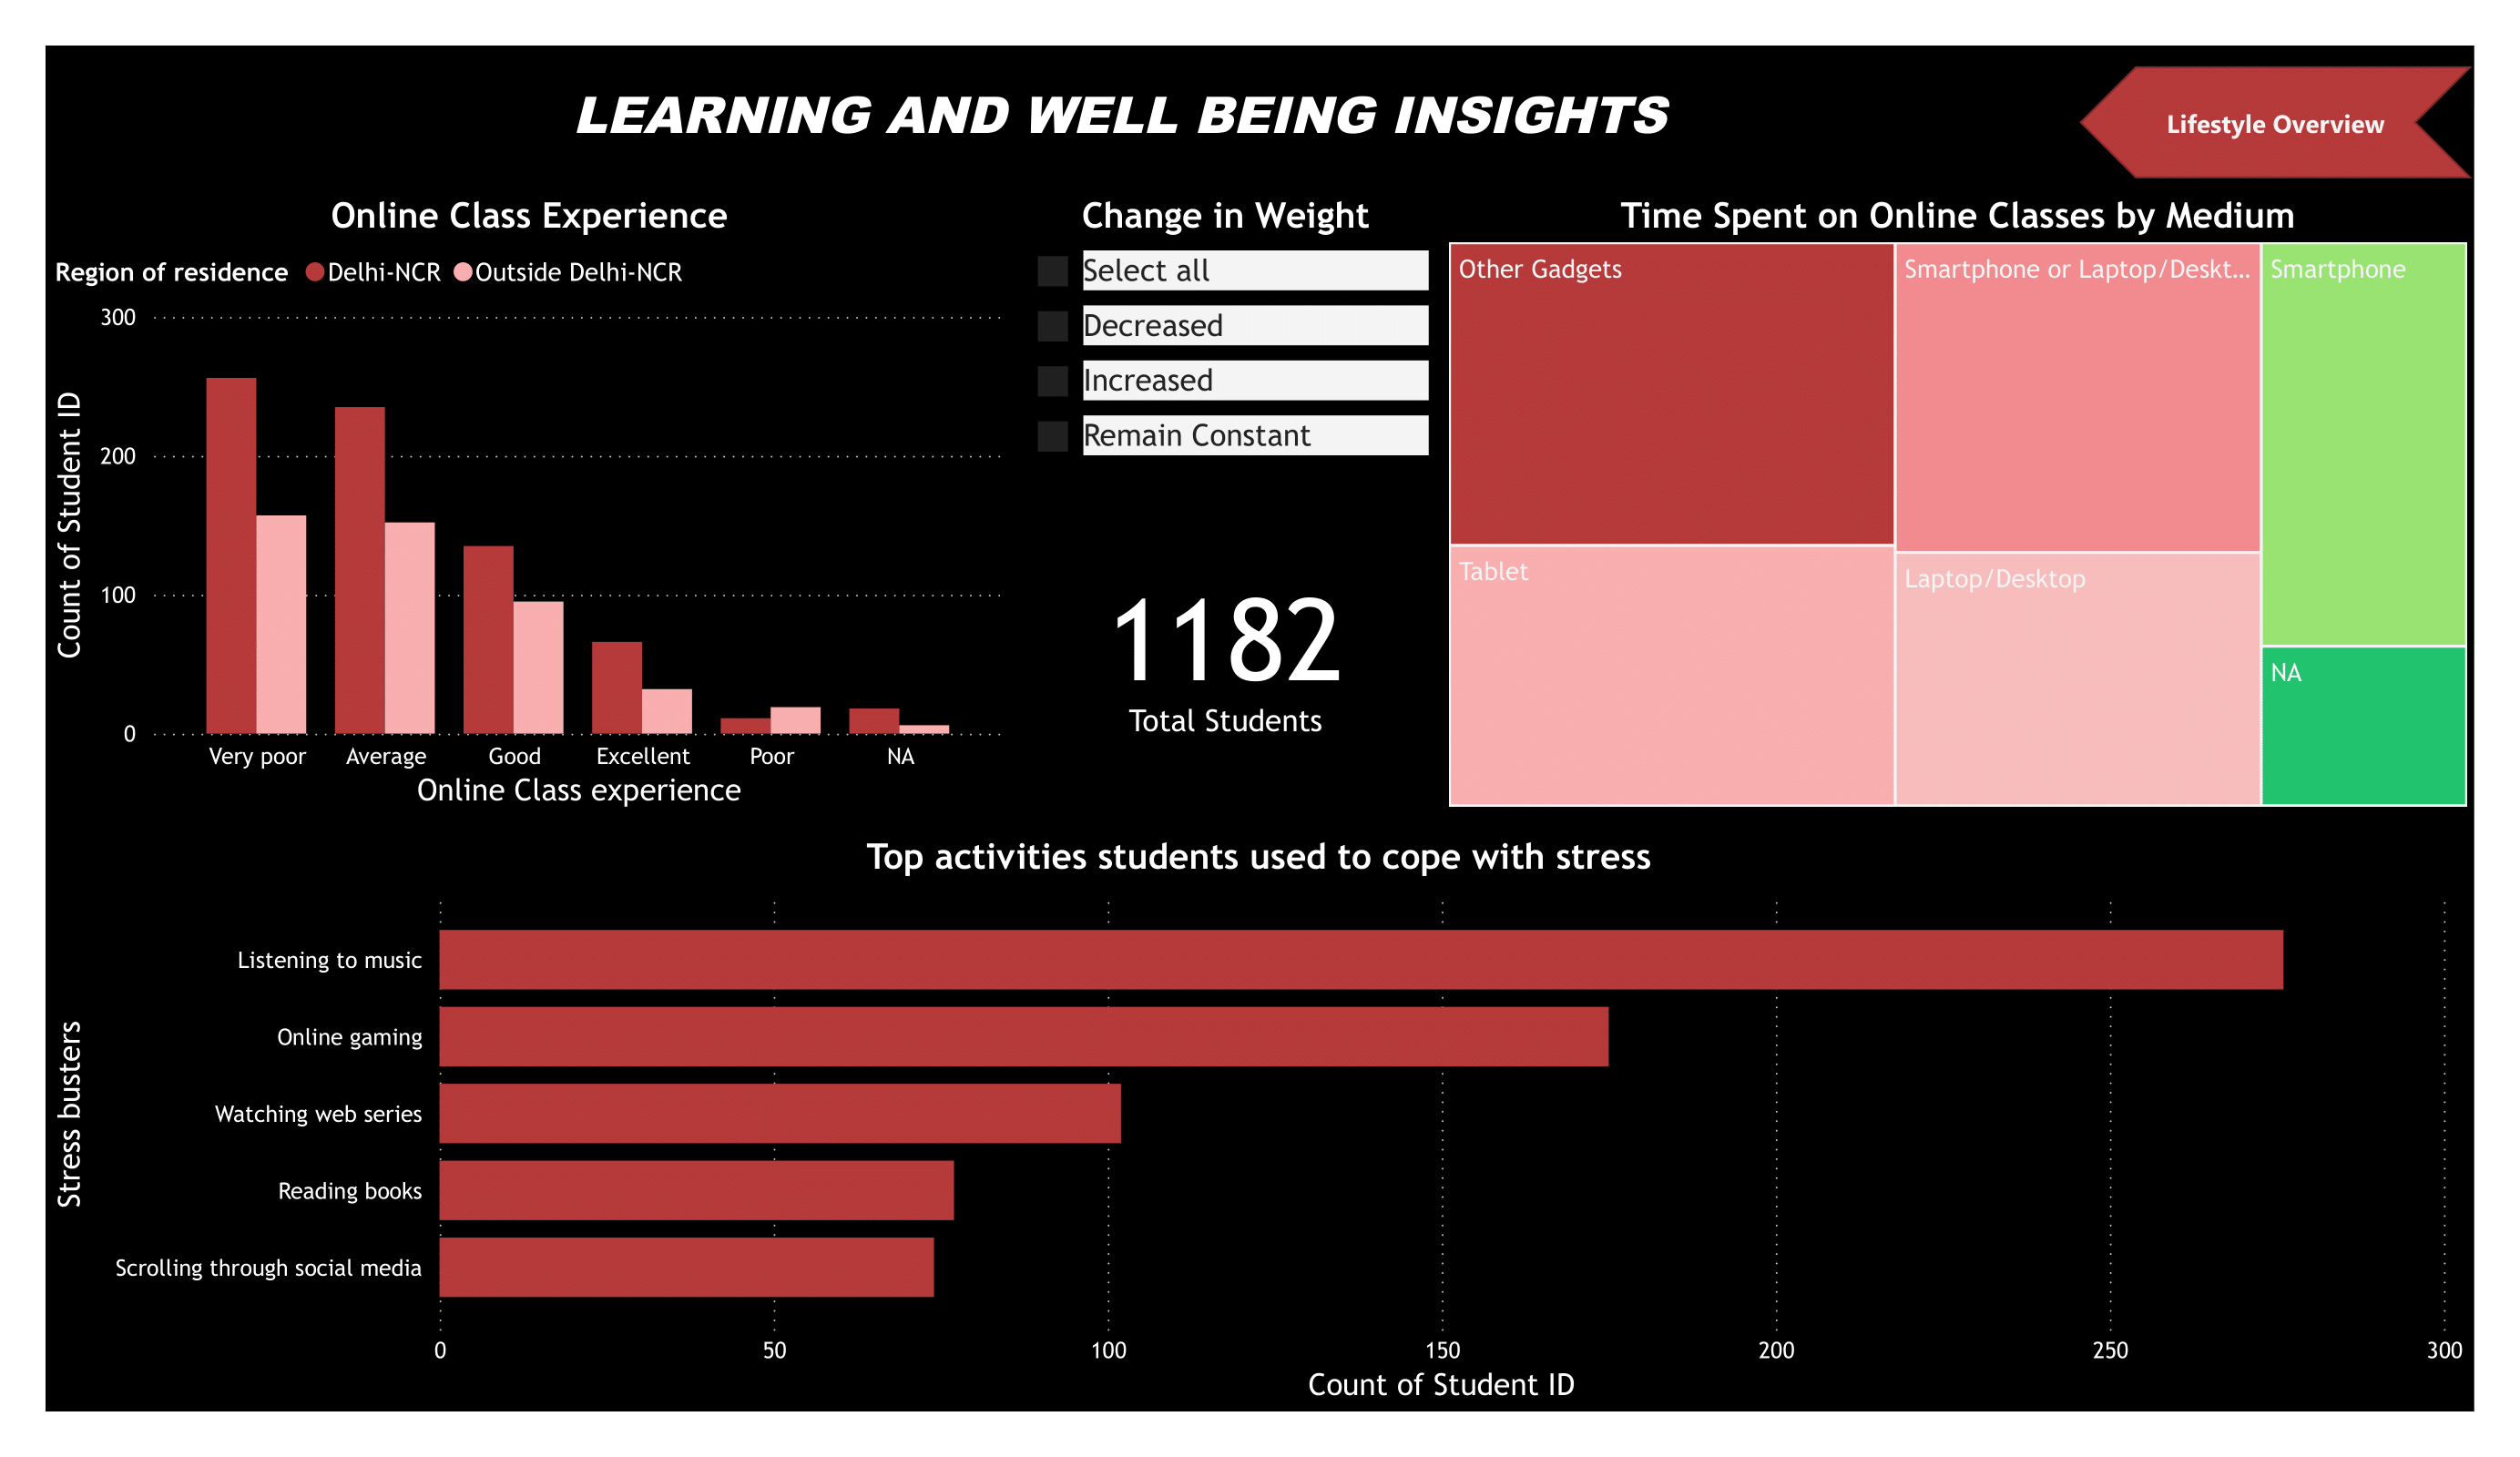

This screenshot's page, from the dashboard's own definition file:
{"tool":"powerbi","page":{"name":"Learning Insights","canvas":[1280,720],"ordinal":1},"visuals":[{"type":"textbox","box":[92,12,948,62],"z":0},{"type":"clusteredColumnChart","title":"Online Class Experience","fields":{"Category":["Impact_of_C19_on_Students (2).Online Class experience"],"Y":["CountNonNull(Impact_of_C19_on_Students (2).Student ID)"],"Series":["Impact_of_C19_on_Students (2).Region of residence"]},"box":[0,77.7,510.1,328.7],"z":1000},{"type":"treemap","title":"Time Spent on Online Classes by Medium","fields":{"Group":["Impact_of_C19_on_Students (2).Medium for online class"],"Values":["Avg(Impact_of_C19_on_Students (2).Time spent on Online Class)"]},"box":[735.1,77.7,545.7,328.7],"z":2000},{"type":"slicer","title":"Change in Weight","fields":{"Values":["Impact_of_C19_on_Students (2).Change in your weight"]},"box":[510.1,77.7,223.5,152.2],"z":3000},{"type":"card","fields":{"Values":["CountNonNull(Impact_of_C19_on_Students (2).Student ID)"]},"box":[510.1,229.9,223.5,176.5],"z":4000},{"type":"barChart","title":"Top activities students used to cope with stress","fields":{"Y":["CountNonNull(Impact_of_C19_on_Students.Student ID)"],"Category":["Impact_of_C19_on_Students.Stress busters"]},"box":[0,416.2,1279.3,303.4],"z":5000},{"type":"shape","box":[1071.9,11.3,207.3,58.3],"z":6000}]}

Visuals, with their boxes in screenshot pixels (x1, y1, x2, y2):
textbox: 220, 68, 2019, 186
"Online Class Experience" clusteredColumnChart: 46, 193, 1014, 817
"Time Spent on Online Classes by Medium" treemap: 1441, 193, 2474, 817
"Change in Weight" slicer: 1014, 193, 1438, 482
card - CountNonNull(Impact_of_C19_on_Students (2).Student ID): 1014, 482, 1438, 817
"Top activities students used to cope with stress" barChart: 46, 835, 2474, 1411
shape: 2079, 67, 2473, 178
